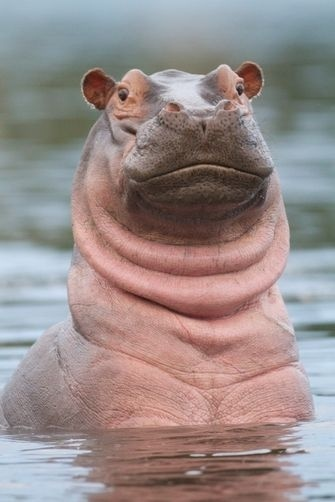hipopotamo: (1, 25, 330, 450)
